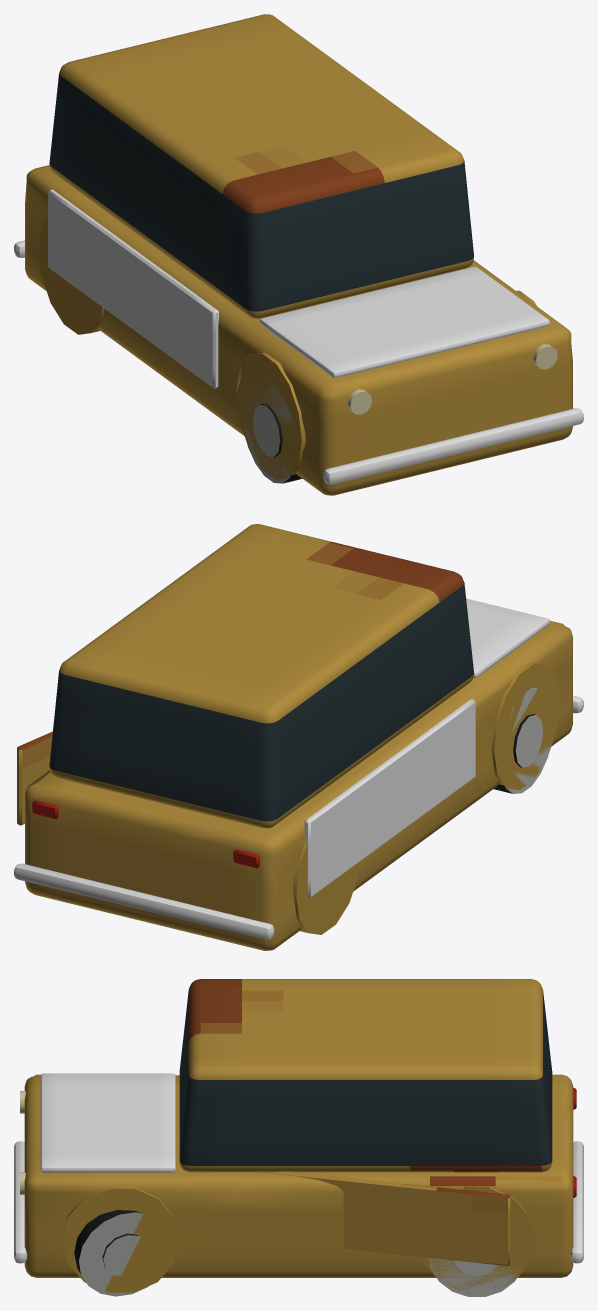
File: L17D_Wreck_C.fbx
3 renders of one model, top to bottom at view 1: azimuth 30°, elevation 25°; view 2: azimuth 150°, elevation 25°; view 3: azimuth 270°, elevation 25°, orthographic. The views are drawn at different scales.
Parts seen in each view (by area): view 1: Cabin.002, Body.002, Hood.002, DoorL.002, Bumpers.002, WheelFL.002, Lamps.002; view 2: Cabin.002, Body.002, DoorL.002, Bumpers.002, Hood.002, WheelFL.002, DoorR.002, Lamps.002; view 3: Cabin.002, Body.002, Hood.002, DoorR.002, WheelFR.002, Bumpers.002, WheelRR.002.
Boxes of the visible parts, <box> form: Cabin.002: <box>49,14,473,318</box>; Body.002: <box>25,165,572,495</box>; Hood.002: <box>260,266,549,377</box>; DoorL.002: <box>48,189,218,388</box>; Bumpers.002: <box>14,240,583,484</box>; WheelFL.002: <box>242,383,302,483</box>; Lamps.002: <box>348,344,557,414</box>; Cabin.002: <box>49,524,473,828</box>; Body.002: <box>25,620,572,950</box>; DoorL.002: <box>304,699,475,898</box>; Bumpers.002: <box>14,695,583,939</box>; Hood.002: <box>466,598,549,677</box>; WheelFL.002: <box>493,687,550,793</box>; DoorR.002: <box>17,731,52,825</box>; Lamps.002: <box>32,800,259,868</box>; Cabin.002: <box>179,979,552,1172</box>; Body.002: <box>24,1074,573,1292</box>; Hood.002: <box>40,1073,175,1172</box>; DoorR.002: <box>260,1171,510,1266</box>; WheelFR.002: <box>74,1210,148,1296</box>; Bumpers.002: <box>14,1141,583,1263</box>; WheelRR.002: <box>428,1257,522,1296</box>.
Size of the model in its own units: 2.31 by 1.81 by 4.26.
